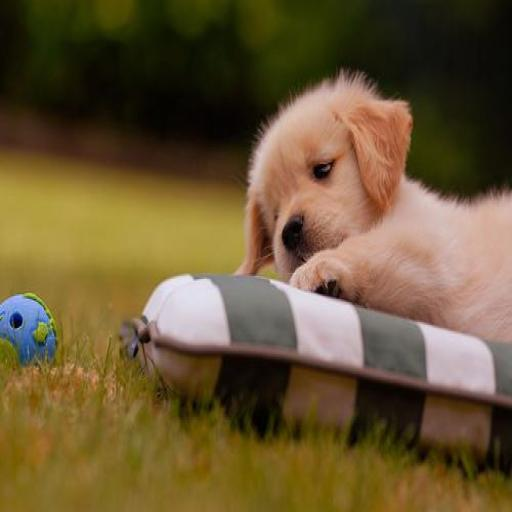dog_face: (240, 72, 409, 288)
